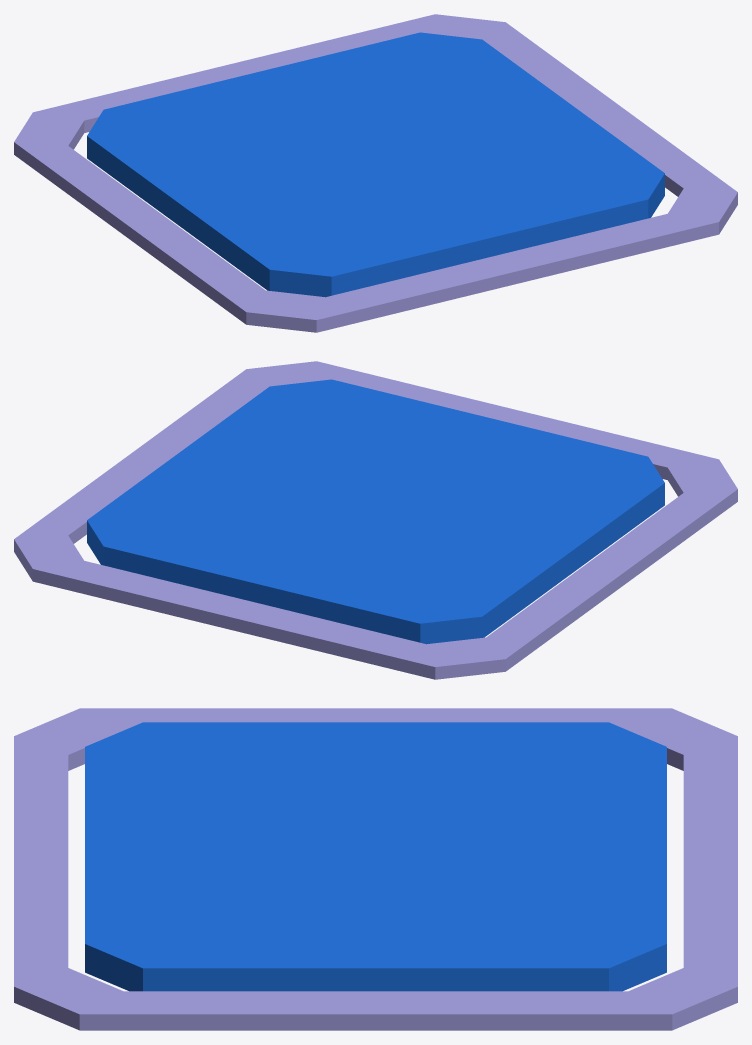
File: Button.fbx
3 views of the same model, one above another, from view 1: azimuth 30°, elevation 25°; view 2: azimuth 150°, elevation 25°; view 3: azimuth 270°, elevation 25° (orthographic). The views are drawn at different scales.
Parts seen in each view (by area): view 1: Cube.001, Cube; view 2: Cube.001, Cube; view 3: Cube.001, Cube.
Part boxes in pixels (<box>): Cube.001: <box>87,32,664,297</box>; Cube: <box>14,14,737,332</box>; Cube.001: <box>87,379,664,644</box>; Cube: <box>14,361,737,679</box>; Cube.001: <box>85,722,666,991</box>; Cube: <box>14,708,737,1030</box>.
Size of the model in its own units: 400 by 19.61 by 400.
